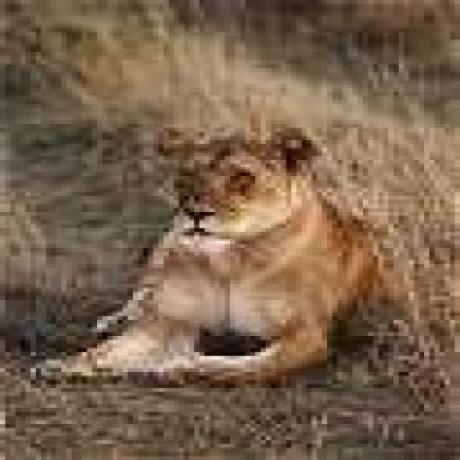Lion: (32, 123, 396, 387)
